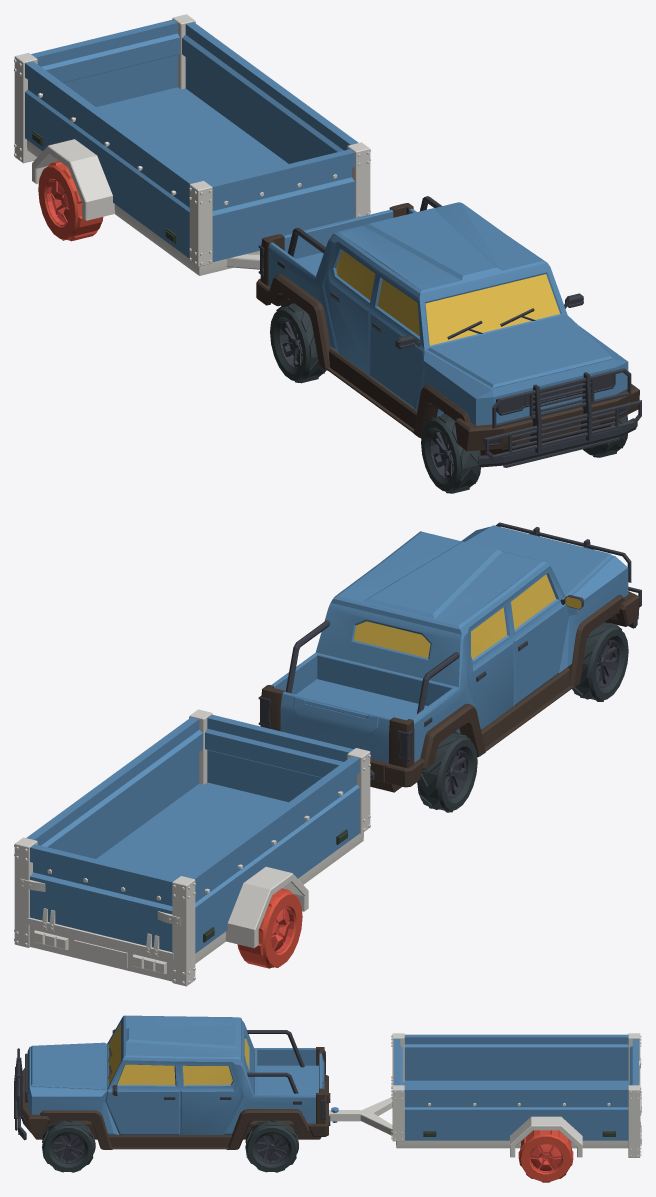
The model's file is car_01.gltf.
3 views of the same model, one above another, from view 1: azimuth 30°, elevation 25°; view 2: azimuth 150°, elevation 25°; view 3: azimuth 270°, elevation 25° (orthographic). The views are drawn at different scales.
Visible parts, largest first — view 1: body, wheel_31, wheel_40, wheel_46; view 2: body, wheel_31, wheel_46, wheel_40; view 3: body, wheel_22, wheel_50, wheel_56, wheel_15, wheel_10, wheel_52, wheel_58.
Part boxes in pixels (<box>): body: <box>14,14,641,493</box>; wheel_31: <box>38,167,75,239</box>; wheel_40: <box>270,310,306,380</box>; wheel_46: <box>421,420,457,490</box>; body: <box>14,522,641,986</box>; wheel_31: <box>265,894,302,966</box>; wheel_46: <box>592,629,628,699</box>; wheel_40: <box>441,740,477,810</box>; body: <box>14,1015,641,1182</box>; wheel_22: <box>521,1136,571,1181</box>; wheel_50: <box>247,1128,296,1171</box>; wheel_56: <box>44,1128,92,1171</box>; wheel_15: <box>54,1134,84,1160</box>; wheel_10: <box>257,1134,287,1160</box>; wheel_52: <box>252,1132,291,1167</box>; wheel_58: <box>49,1132,88,1167</box>.
Bounding box in the file's own units: 2.91 × 2.04 × 10.33.
1 material, 1 textured.
